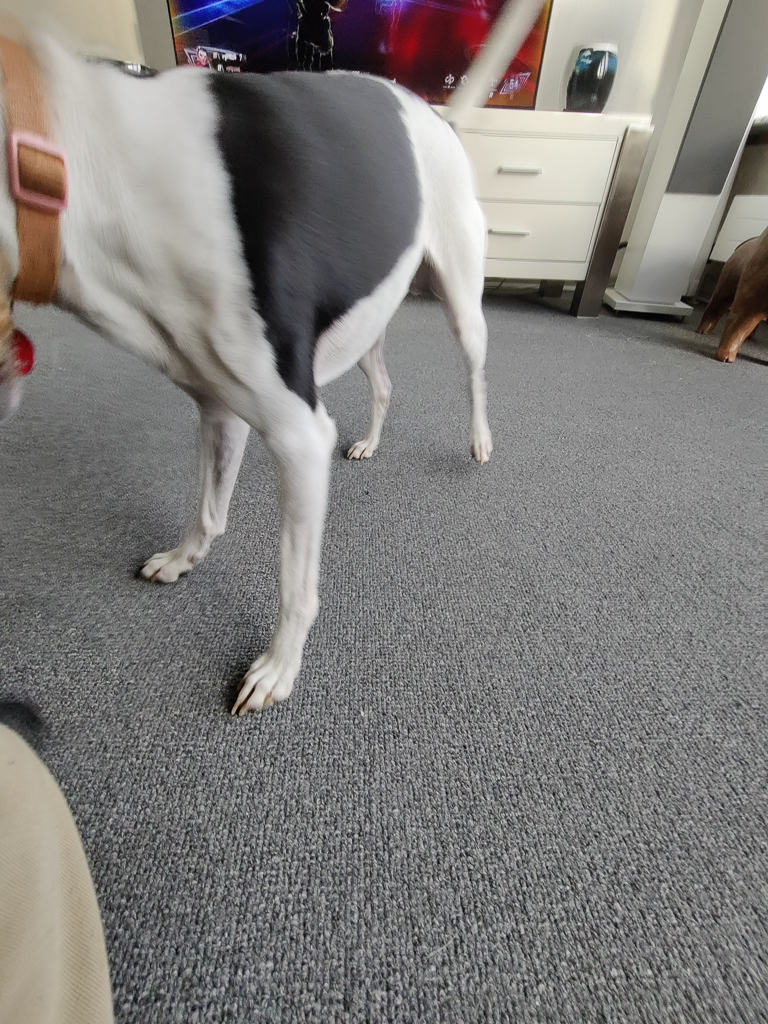Cattle: (690, 198, 768, 373)
Dog: (0, 0, 514, 722)
Humanoid: (0, 679, 121, 1024)
